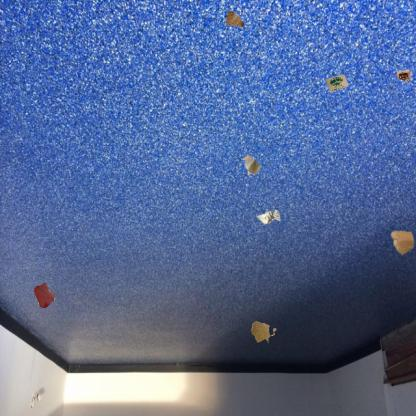dirty: (390, 229, 416, 256), (255, 208, 283, 228), (324, 72, 349, 94), (240, 153, 262, 177), (224, 9, 247, 29), (395, 67, 413, 84)
liquid: (250, 320, 278, 344), (32, 281, 56, 309)
